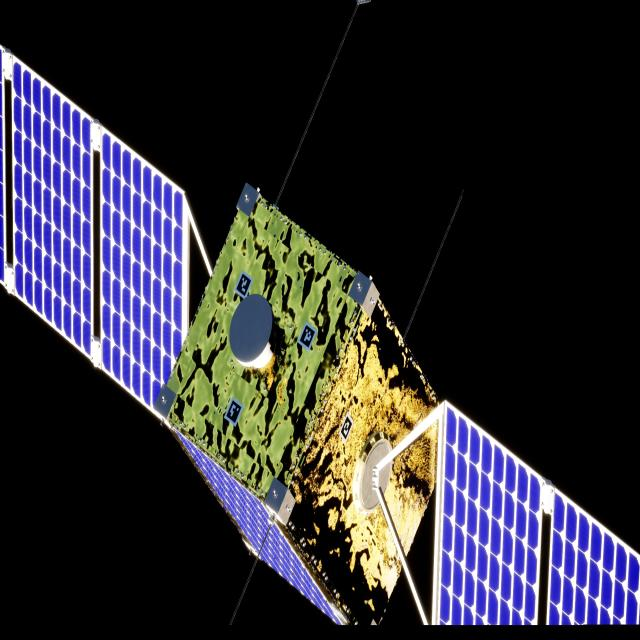satellite: (0, 47, 640, 631)
